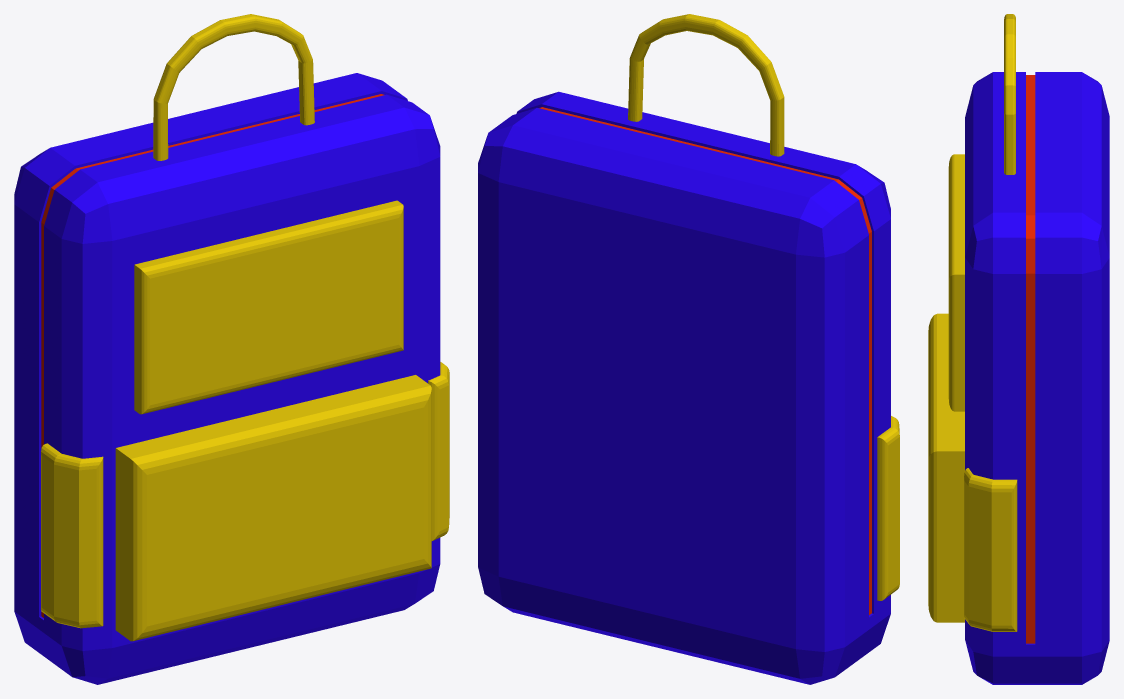
File: carry.fbx
3 renders of one model, left to right at view 1: azimuth 30°, elevation 25°; view 2: azimuth 150°, elevation 25°; view 3: azimuth 270°, elevation 25°, orthographic. The views are drawn at different scales.
Visible parts, largest first — view 1: Cube; view 2: Cube; view 3: Cube.
Boxes of the visible parts, left/top/right/bottom form: Cube: left=14, top=14, right=449, bottom=684; Cube: left=478, top=14, right=899, bottom=684; Cube: left=928, top=14, right=1109, bottom=684.
Size of the model in its own units: 165 by 248 by 69.71.
